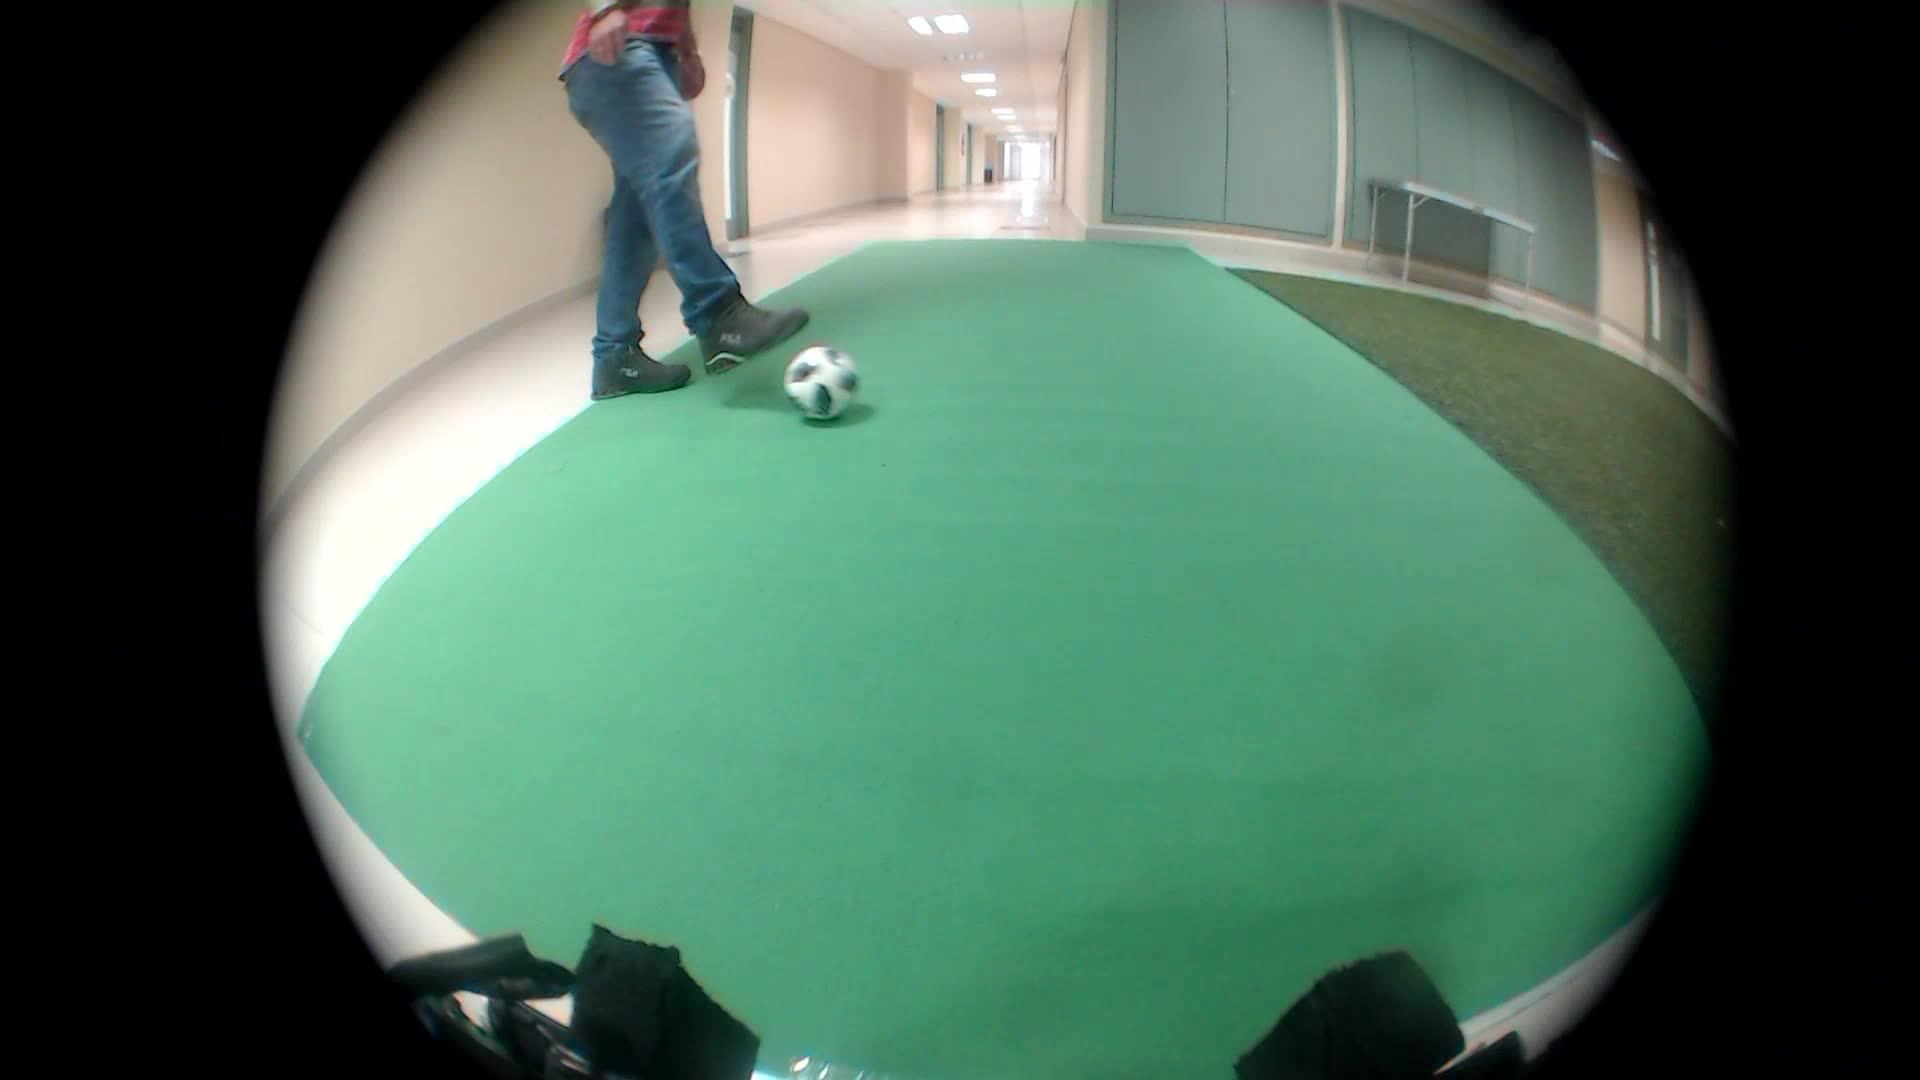ball: (778, 338, 876, 425)
